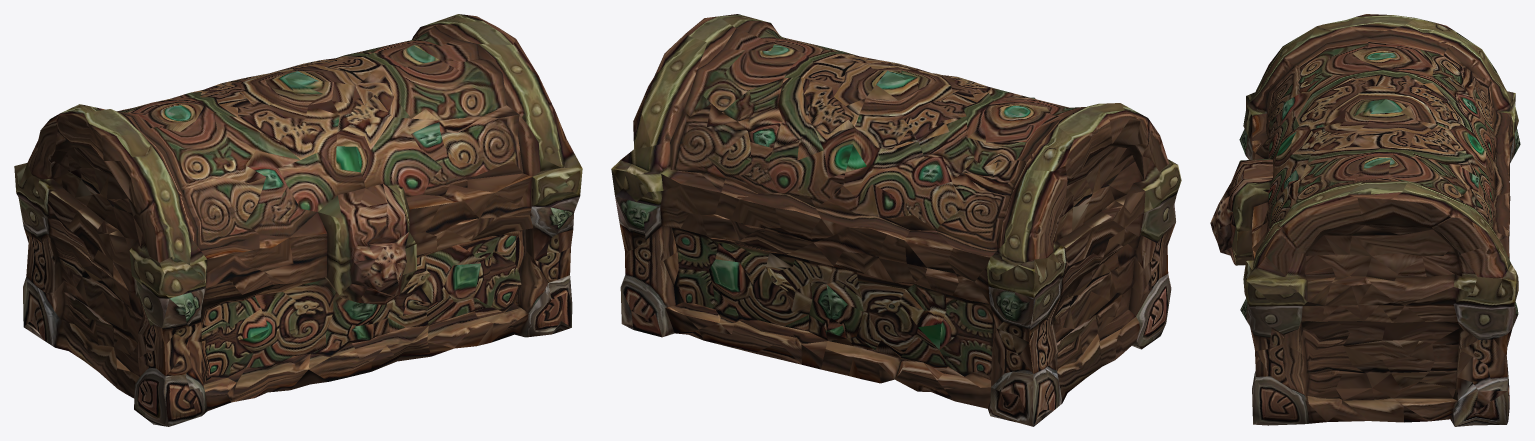
Rendered from bau.glb.
3 renders of one model, left to right at view 1: azimuth 30°, elevation 25°; view 2: azimuth 150°, elevation 25°; view 3: azimuth 270°, elevation 25°, orthographic. The views are drawn at different scales.
Parts seen in each view (by area): view 1: geometry_0; view 2: geometry_0; view 3: geometry_0.
Part boxes in pixels (box(x1,y1,x2,y2)): geometry_0: box(14, 14, 582, 426); geometry_0: box(611, 14, 1181, 426); geometry_0: box(1210, 14, 1520, 426).
Bounding box in the file's own units: 0.975 × 0.5596 × 0.6665.
Materials: 1 (1 with a texture image).
